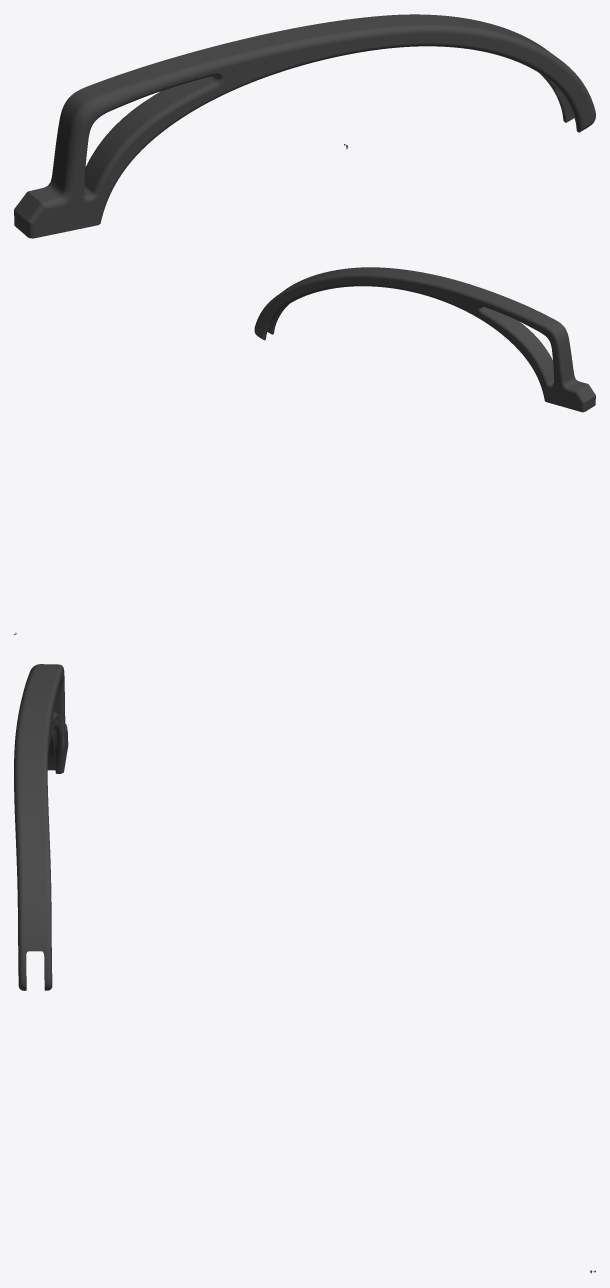
Rendered from GLB2.glb.
3 renders of one model, top to bottom at view 1: azimuth 30°, elevation 25°; view 2: azimuth 150°, elevation 25°; view 3: azimuth 270°, elevation 25°, orthographic. The views are drawn at different scales.
Visible parts, largest first — view 1: Object_1.005; view 2: Object_1.005; view 3: Object_1.005.
Boxes of the visible parts, x1,y1,x2,y2 form: Object_1.005: (14,14,595,238); Object_1.005: (254,267,595,412); Object_1.005: (14,664,68,990).
Bounding box in the file's own units: 67.25 × 44.41 × 61.28.
Materials: 21 (16 with a texture image).
